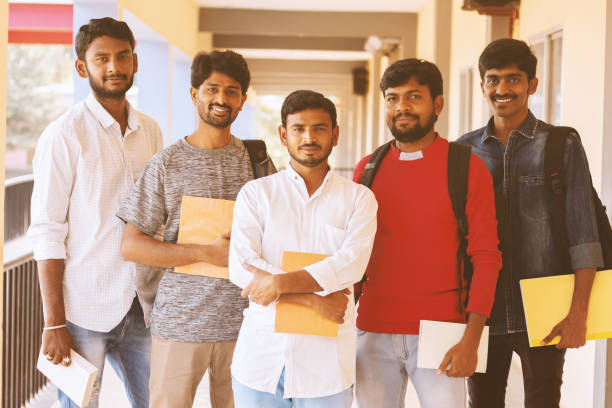men: (369, 52, 446, 147), (180, 48, 256, 139), (477, 40, 548, 124), (73, 16, 141, 101), (272, 87, 340, 170)
